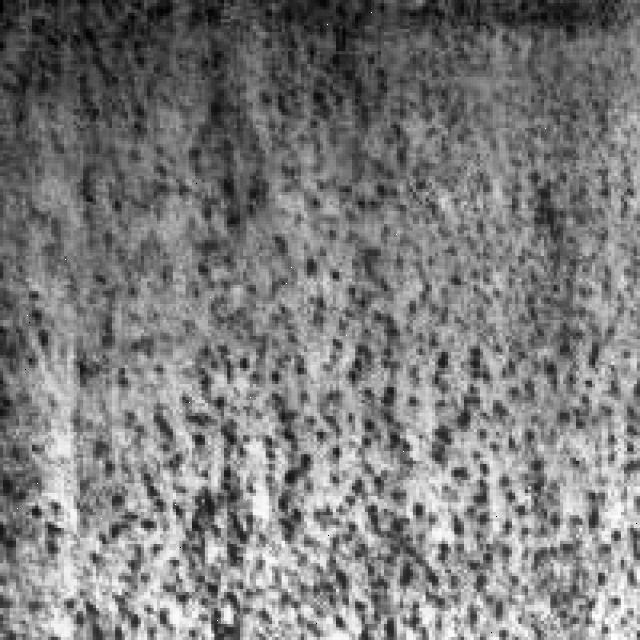Rolled_in_Scale: (96, 54, 624, 624), (76, 22, 474, 282)
